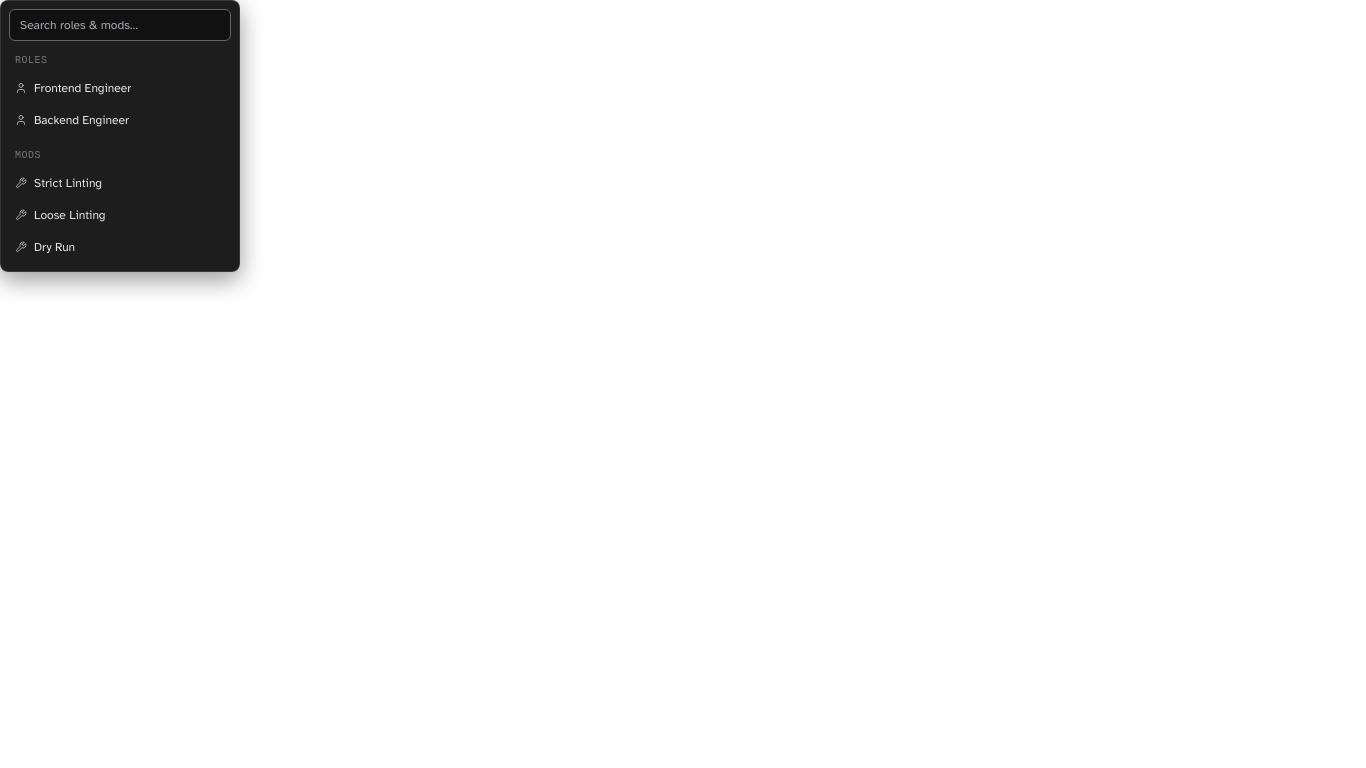
Scenario: StepQuickAddPopover — search filtering › shows the empty-results message when nothing matches
Type "zzz-no-match" into the field with test id "step-quick-add-search" at [120, 25], box 9,9 -> 231,41
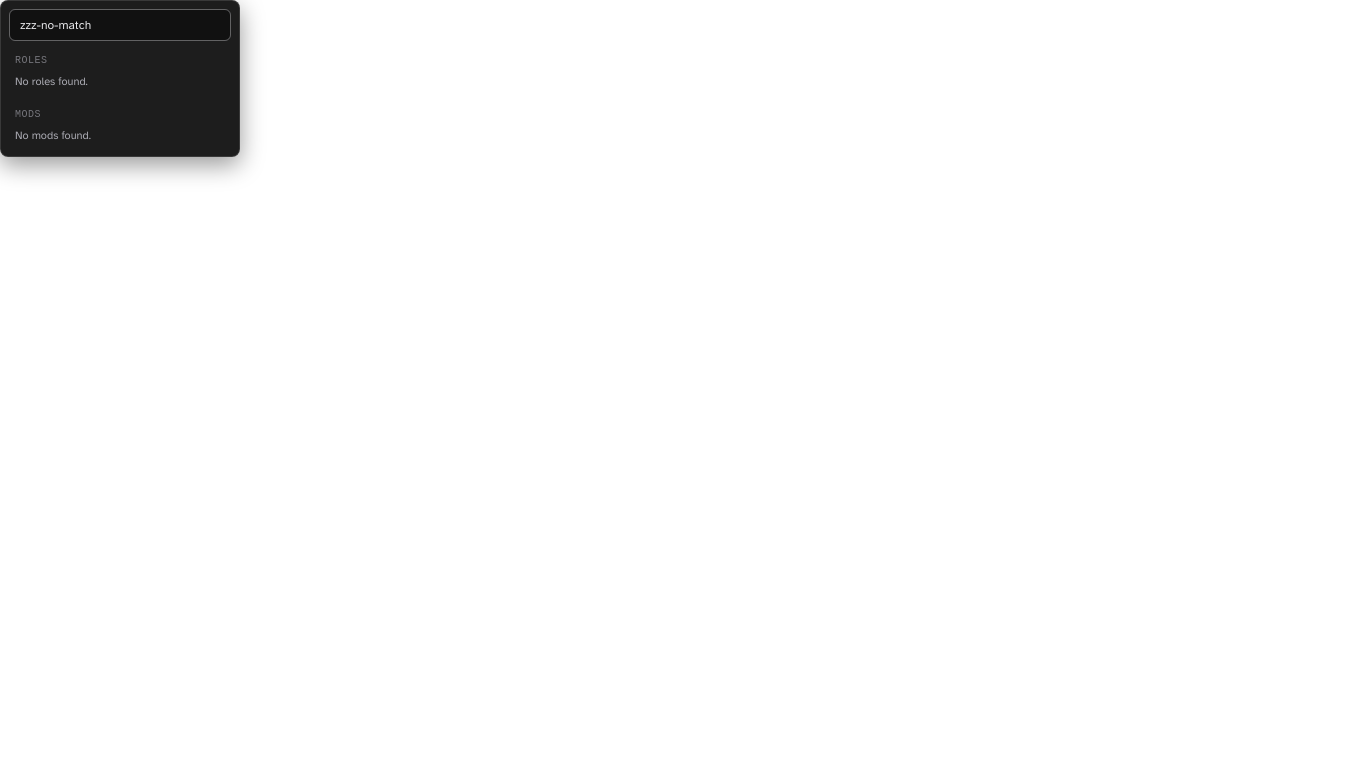
Check: the text "No roles found." is shown 2 times, box 15,75 -> 88,88; 15,128 -> 91,142
